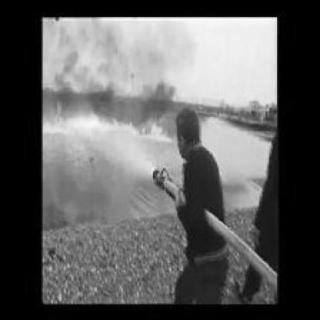Fire: (46, 102, 174, 140)
